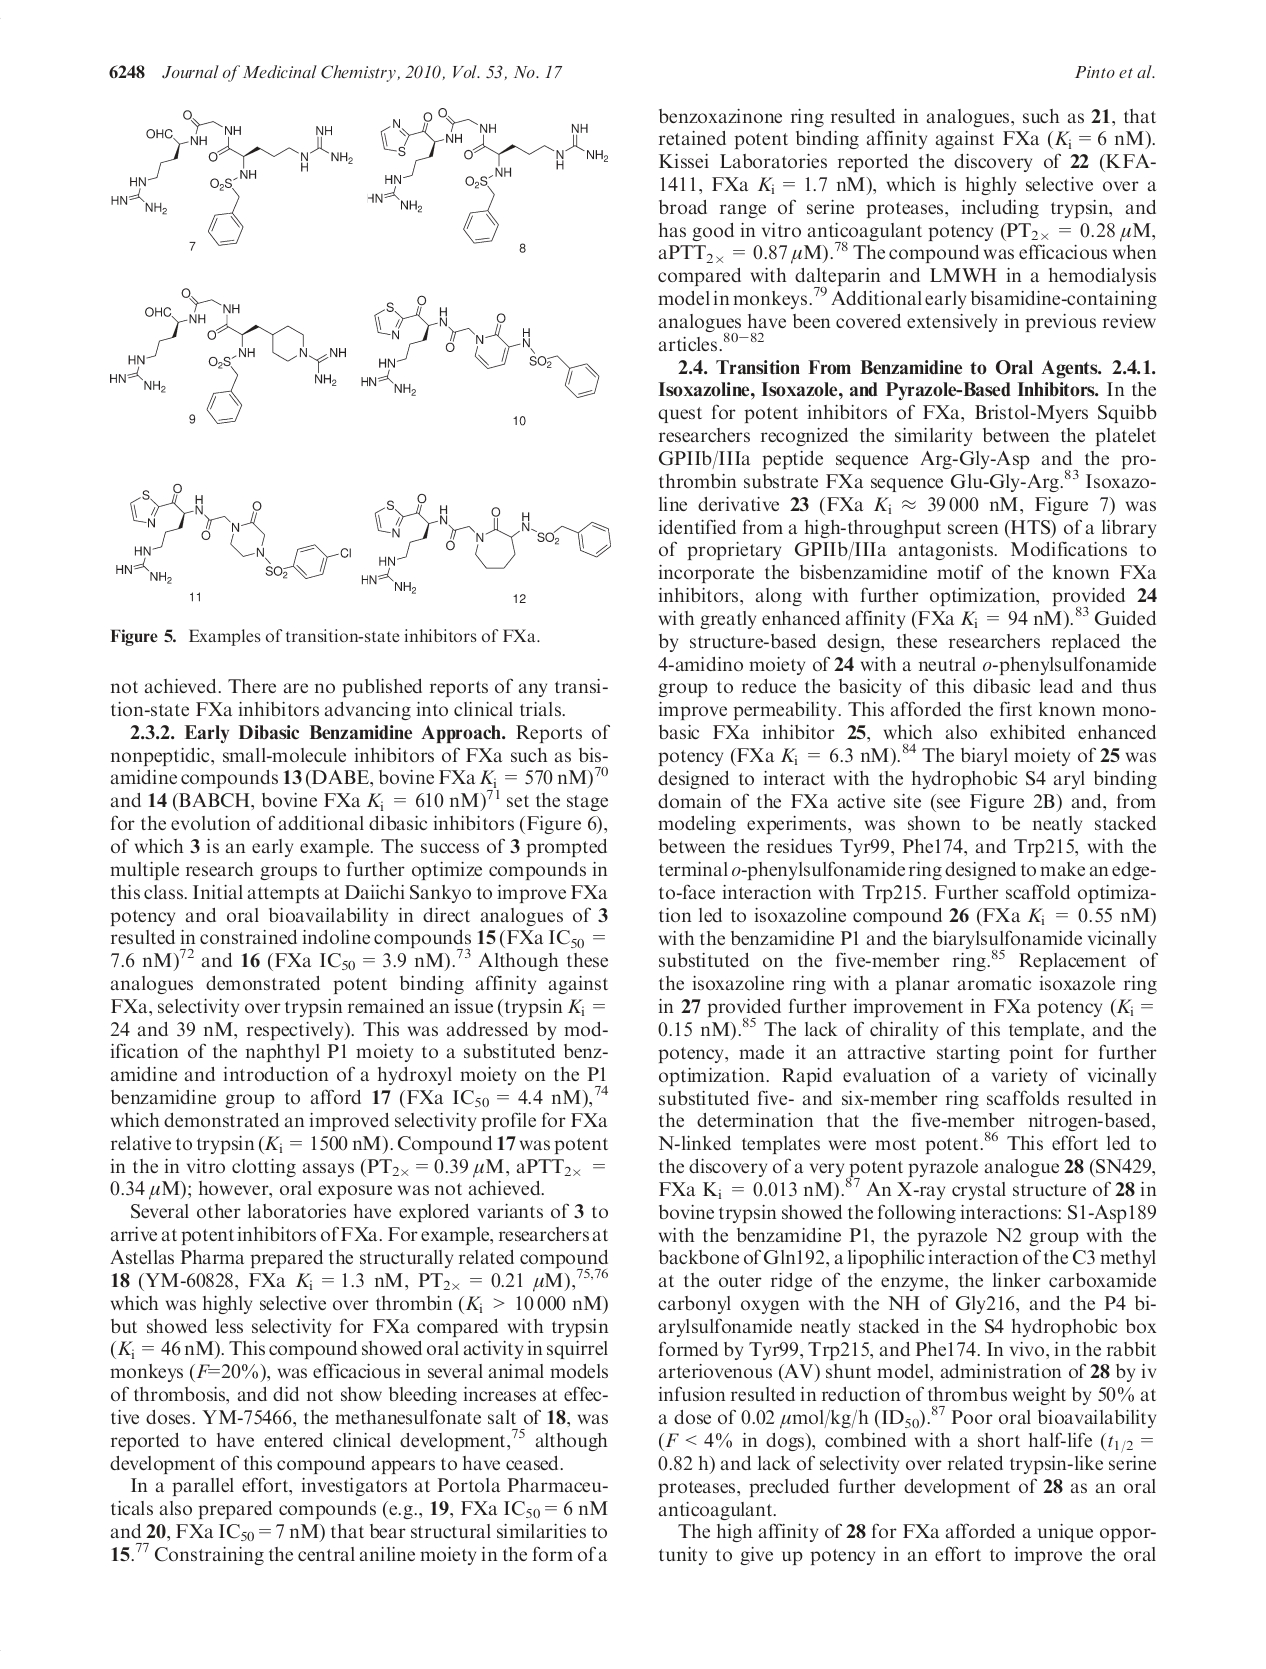exist_molecular: (97, 279, 351, 430), (363, 101, 616, 246), (102, 102, 352, 247), (351, 485, 616, 602), (104, 476, 359, 586), (358, 293, 606, 403)
